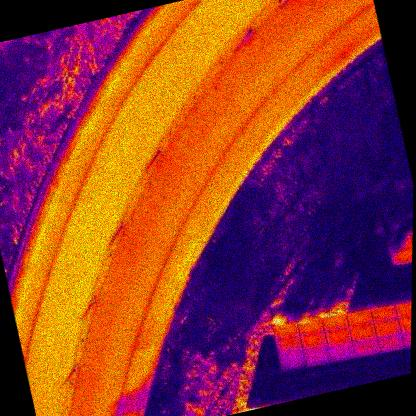Hotspot: (297, 318, 324, 337)
Normal: (278, 348, 307, 372), (300, 328, 327, 352), (353, 335, 381, 358), (327, 340, 356, 362), (373, 316, 402, 338), (324, 324, 352, 346), (377, 332, 406, 353), (302, 346, 330, 367), (275, 334, 304, 353), (349, 322, 377, 341), (346, 308, 374, 327), (274, 322, 300, 342), (371, 304, 397, 322), (322, 312, 348, 330), (395, 300, 412, 318), (398, 313, 411, 333), (401, 328, 411, 349)
Shadow: (386, 231, 413, 252), (381, 218, 410, 236), (390, 246, 412, 265)
